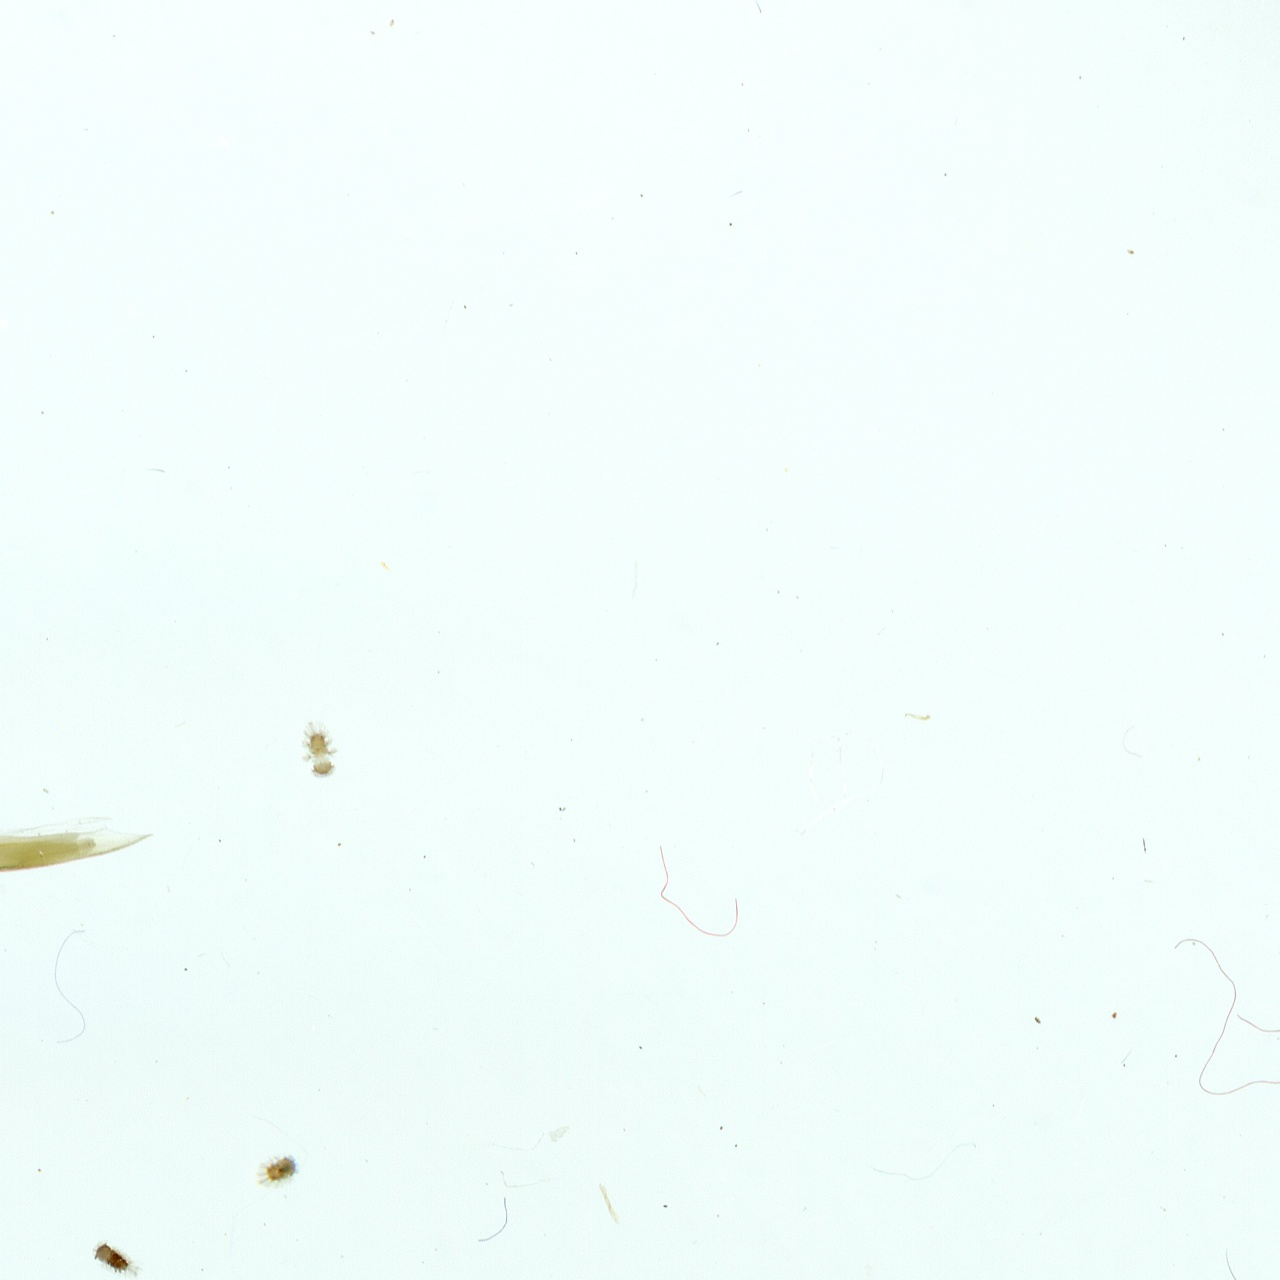arthropod: (293, 713, 336, 779), (245, 1143, 298, 1191), (86, 1234, 141, 1280)
